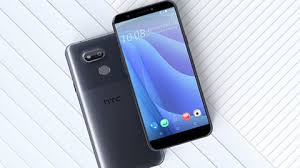htc: (109, 1, 214, 153), (64, 29, 168, 168)
